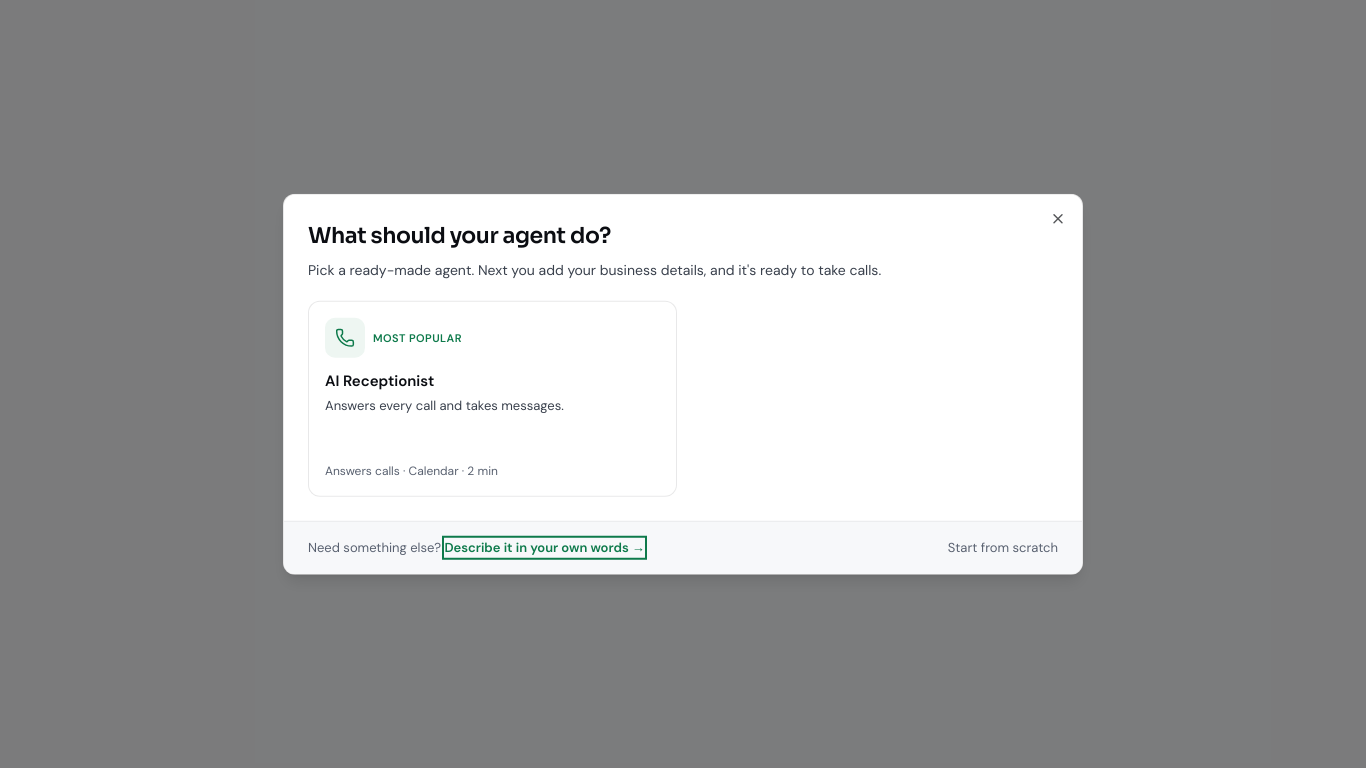
tells someone who can’t connect integrations to ask an admin
Click the button "AI Receptionist" at (492, 399), box [308,301,677,497]
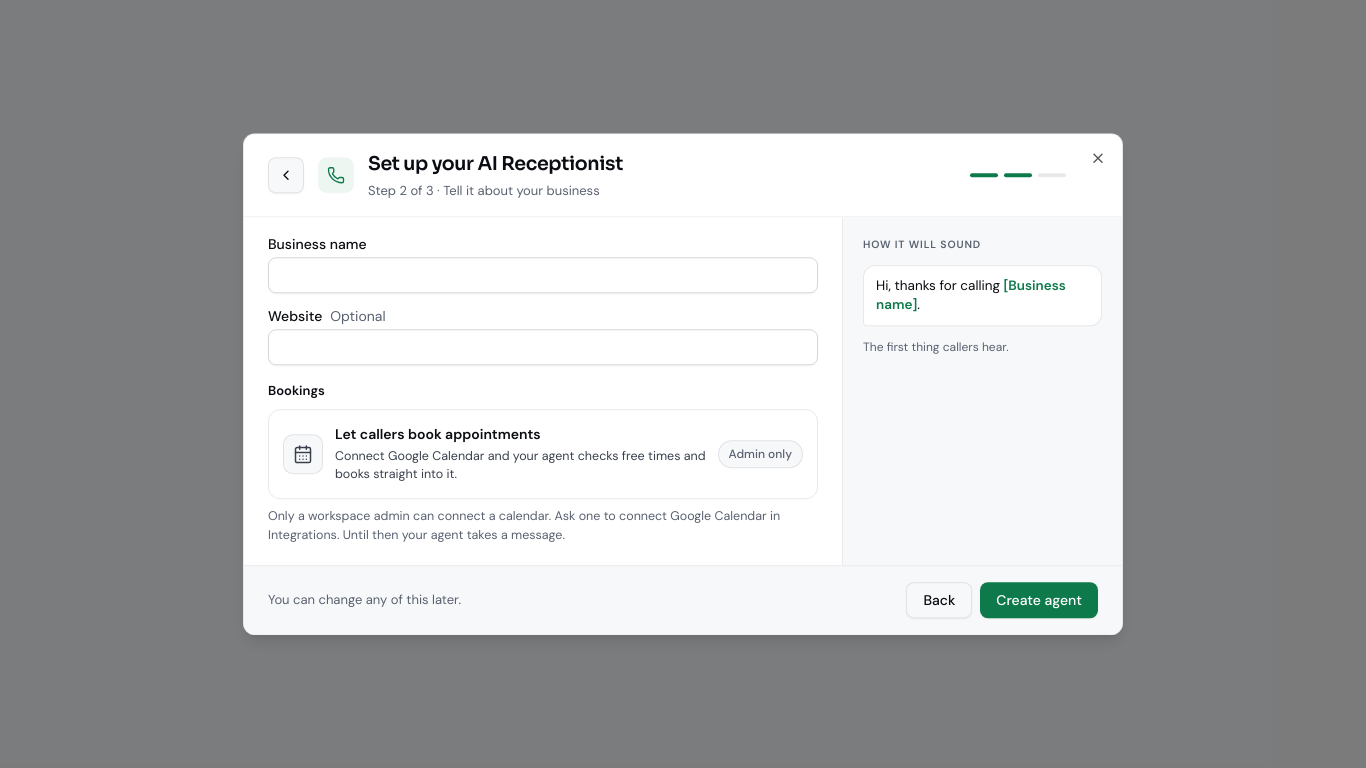
Expected: the text "Ask one to connect Google Calendar in Integrations" is shown, [268,508,780,543]
Expected: the text "Admin only" is shown, [718,440,803,468]
